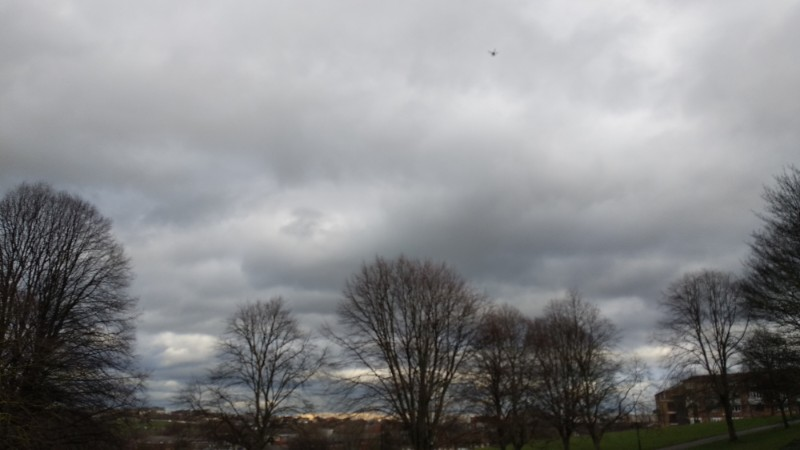drone: (485, 48, 499, 58)
